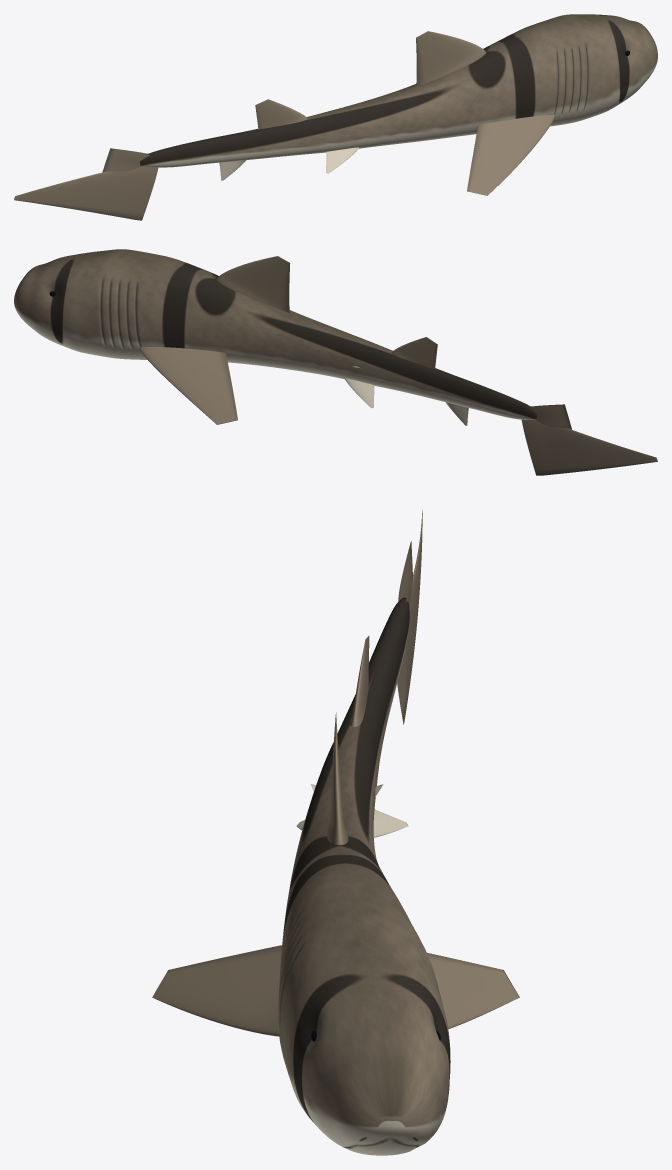
Rendered from port_jackson_shark.glb.
3 views of the same model, one above another, from view 1: azimuth 30°, elevation 25°; view 2: azimuth 150°, elevation 25°; view 3: azimuth 270°, elevation 25° (orthographic). The views are drawn at different scales.
Parts seen in each view (by area): view 1: port_jackson_shark_Body, port_jackson_shark_Fins; view 2: port_jackson_shark_Body, port_jackson_shark_Fins; view 3: port_jackson_shark_Body, port_jackson_shark_Fins.
Boxes of the visible parts, left/top/right/bottom form: port_jackson_shark_Body: left=140, top=14, right=657, bottom=167; port_jackson_shark_Fins: left=14, top=31, right=555, bottom=220; port_jackson_shark_Body: left=14, top=249, right=538, bottom=419; port_jackson_shark_Fins: left=139, top=256, right=657, bottom=475; port_jackson_shark_Body: left=278, top=597, right=450, bottom=1155; port_jackson_shark_Fins: left=152, top=510, right=519, bottom=1036.
Size of the model in its own units: 1.4 by 0.2885 by 0.3526.
3 materials, 1 textured.
